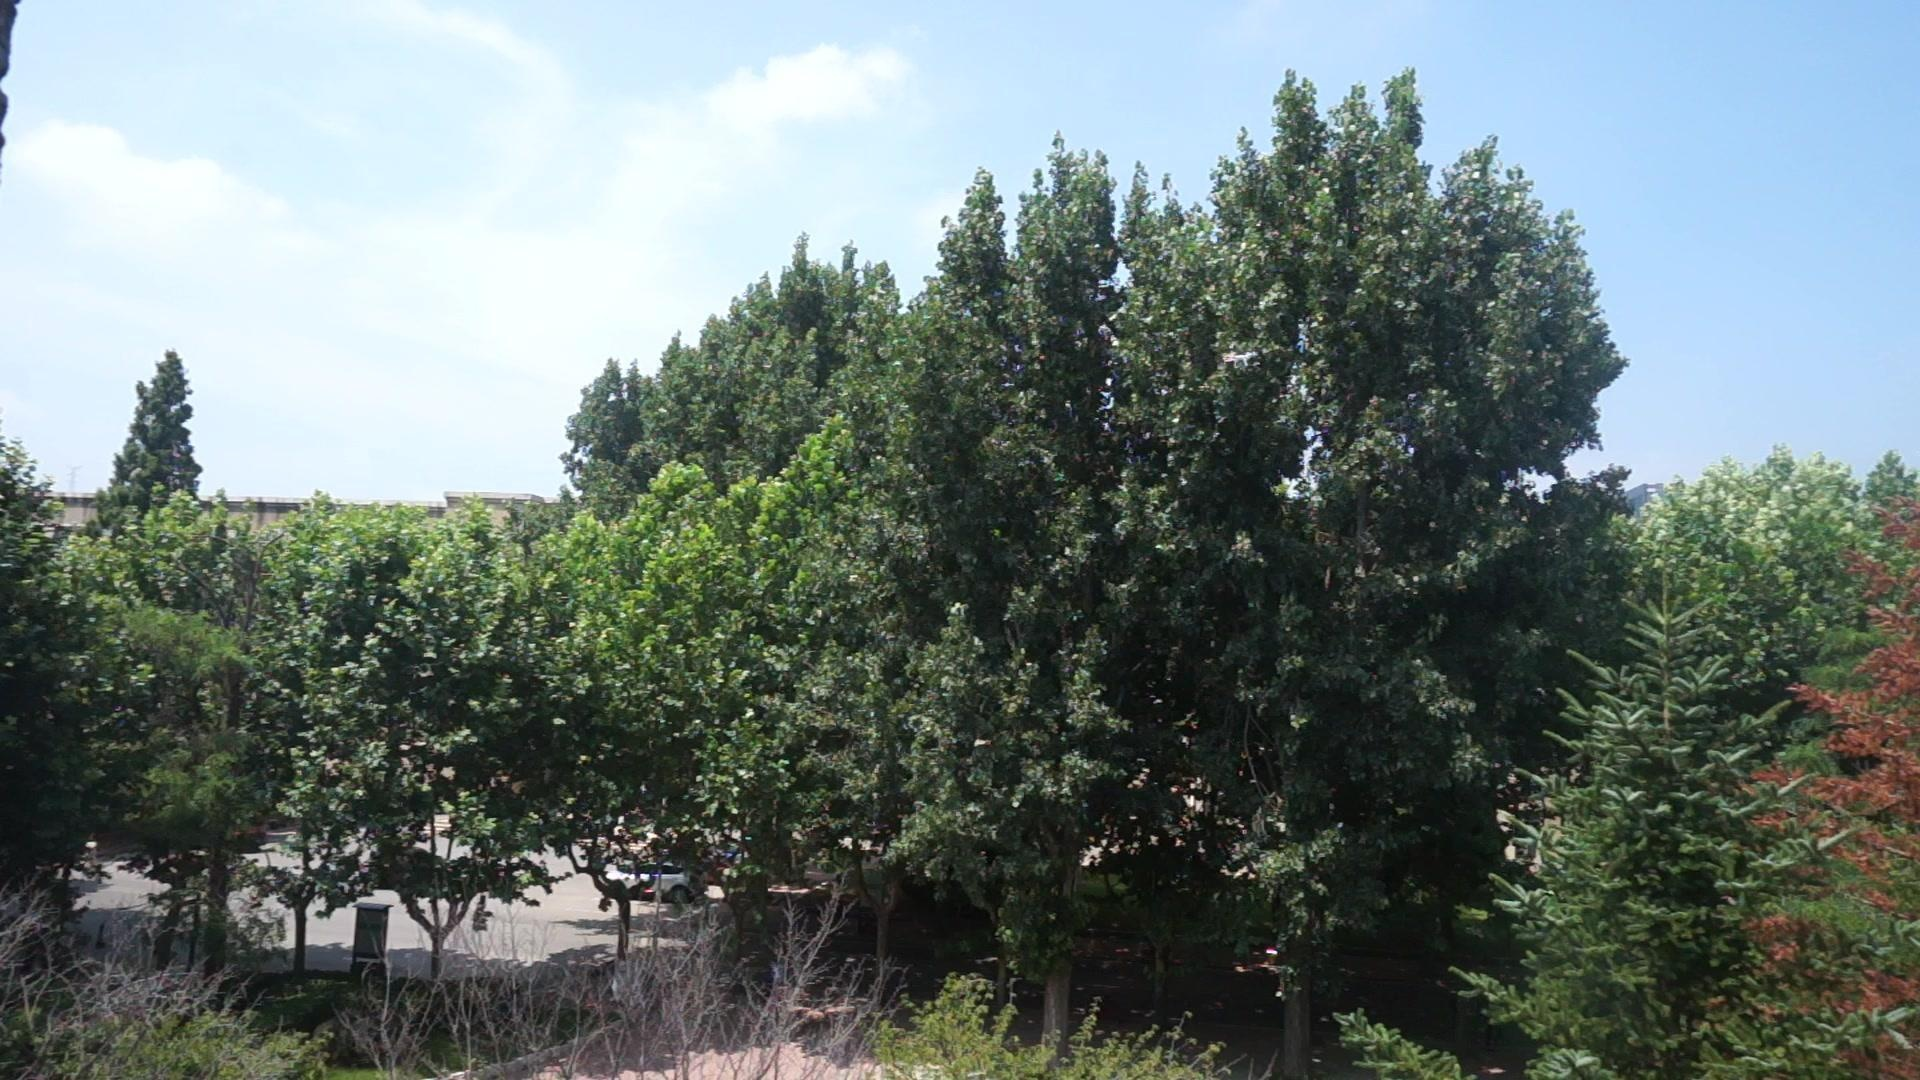UAV: (1222, 352, 1261, 369)
